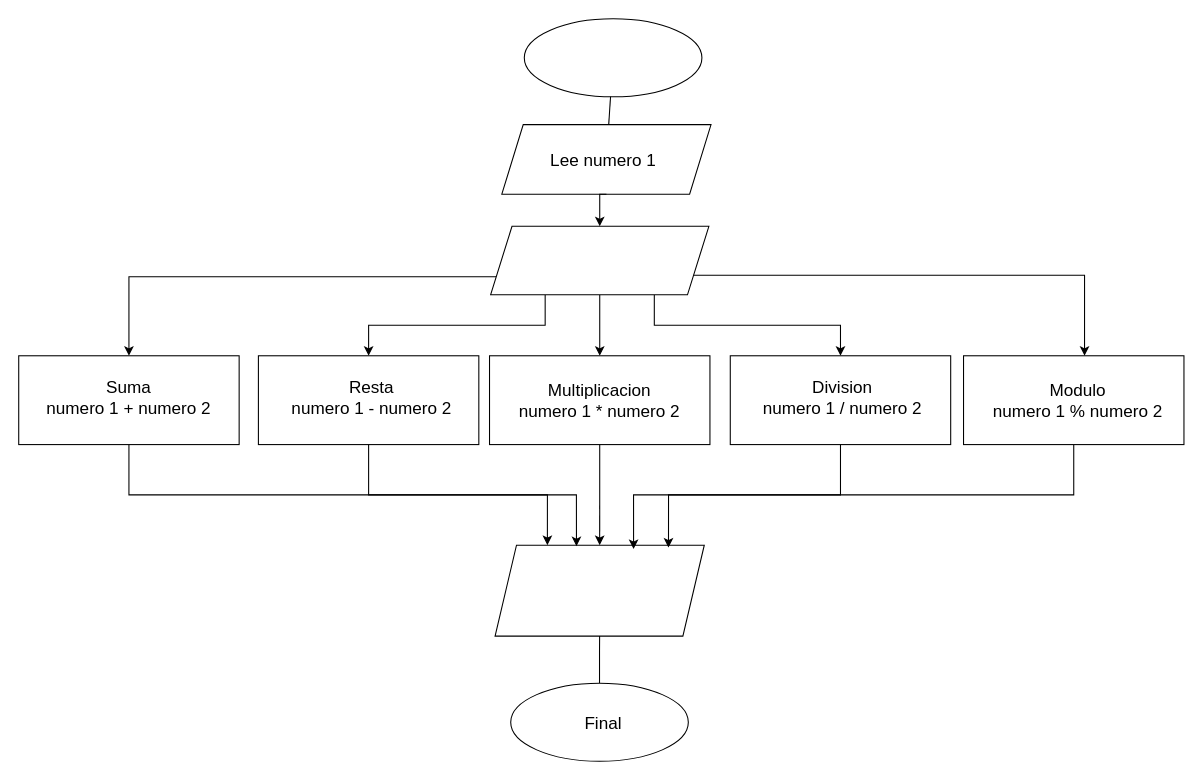
Image size: 1203x780. Some labels were removed from this diagram. Each missing label, with the centre of its shape:
"Inicio" belongs at [612,57].
"Lee numero 2" belongs at [599,260].
"Resultado" belongs at [599,590].
